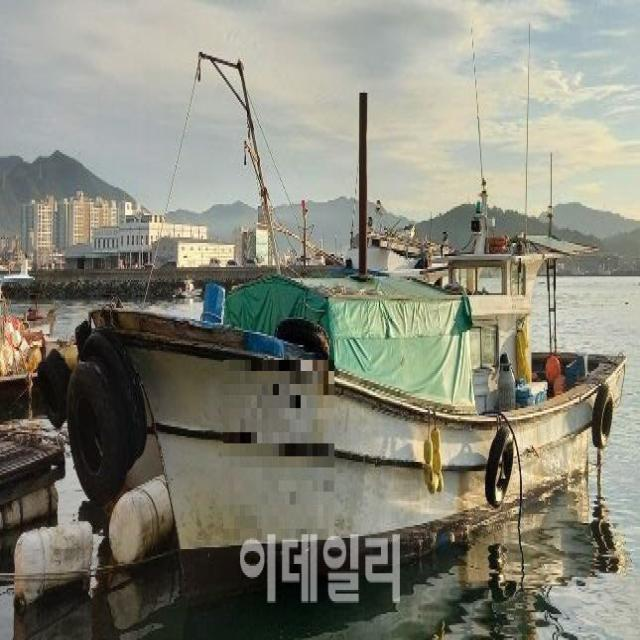Ship: (94, 16, 628, 610)
